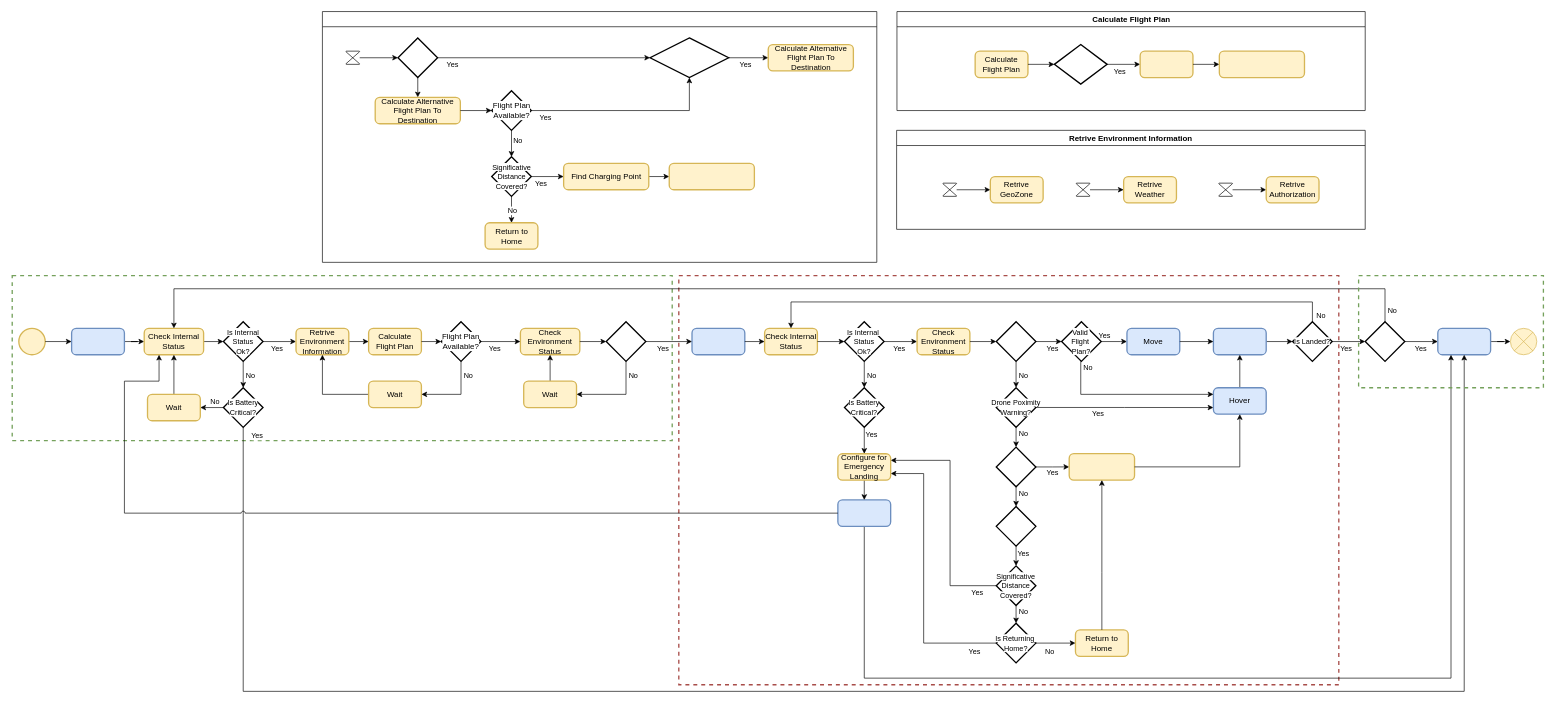
The diagram is 1555 pixels wide and 708 high, and some of its shapes have lost their labels. Here are the shapes that lost their labels. From the top down, the box of each, then its label:
(397, 37, 438, 78): Sufficient battery?
(649, 37, 729, 78): GeoZone, Weather or Authorization changed?
(1053, 44, 1107, 84): Need Authorization?
(1139, 50, 1193, 78): Authorization Request
(1218, 50, 1305, 78): Adapt Flight Plan with Authorization
(322, 11, 877, 262): Long Term Planning
(668, 162, 755, 190): Calculate Alternative Flight Plan To Charging Point
(71, 327, 125, 355): Power On
(605, 321, 646, 362): Clear to Take Off?
(691, 327, 745, 355): Take Off
(995, 321, 1036, 362): Clear to Fly?
(1212, 327, 1267, 355): Comunicate via Radio
(1364, 321, 1405, 362): Destination Reached?
(1437, 327, 1491, 355): Shut Down
(995, 446, 1036, 487): GeoZone Poximity Warning?
(1068, 453, 1135, 480): Trigger Flight Plan Adaptation
(837, 499, 891, 527): Emergency Landing
(995, 506, 1036, 546): Rain Proximity Warning?
